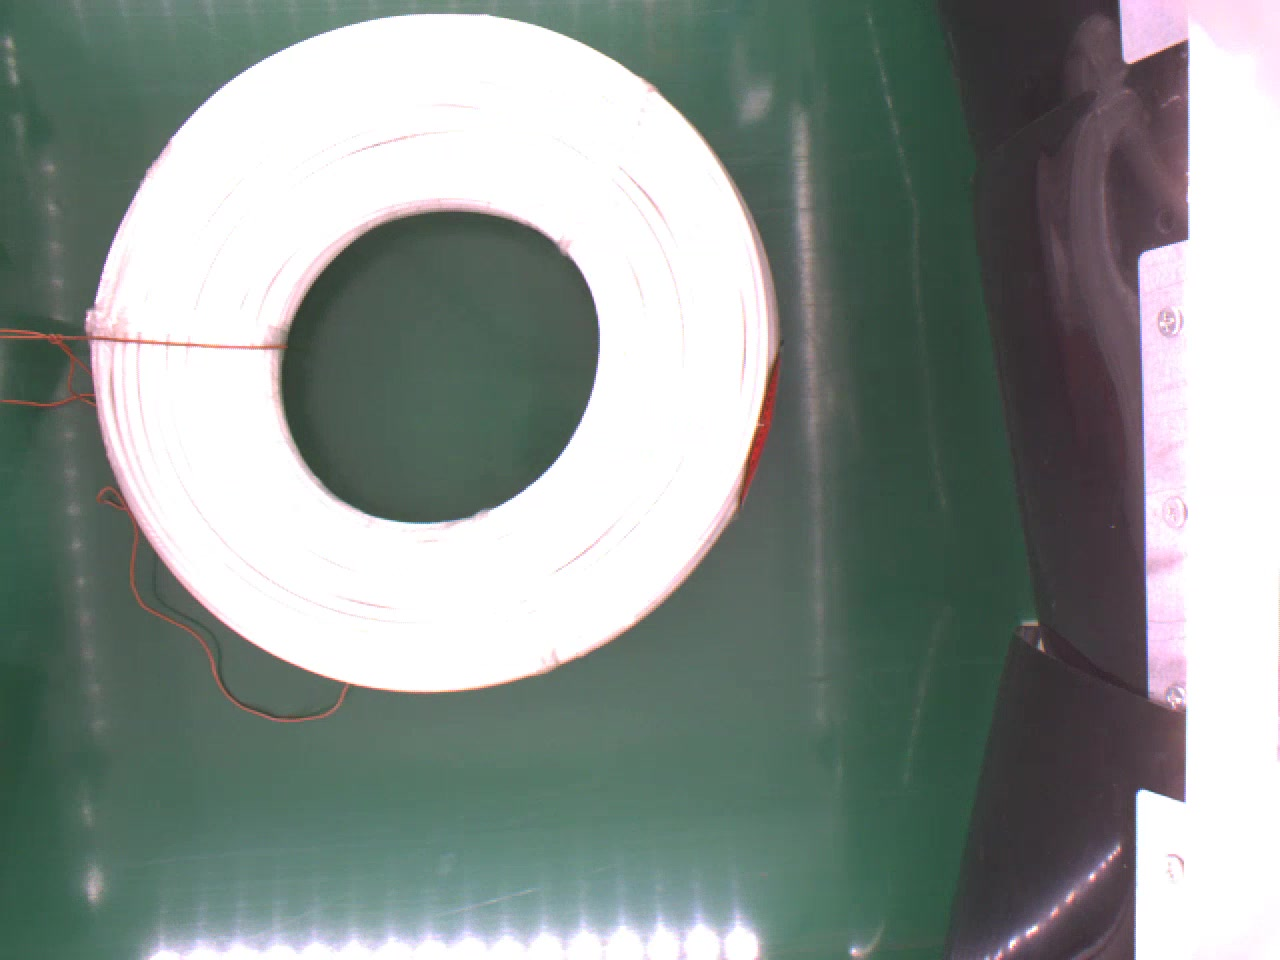white: (87, 13, 776, 691)
